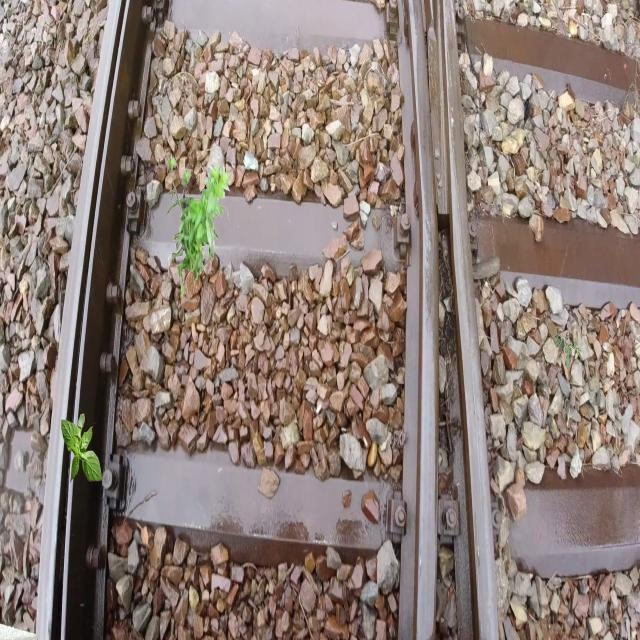Plant: (167, 154, 232, 298), (61, 413, 102, 484), (554, 328, 582, 369)
